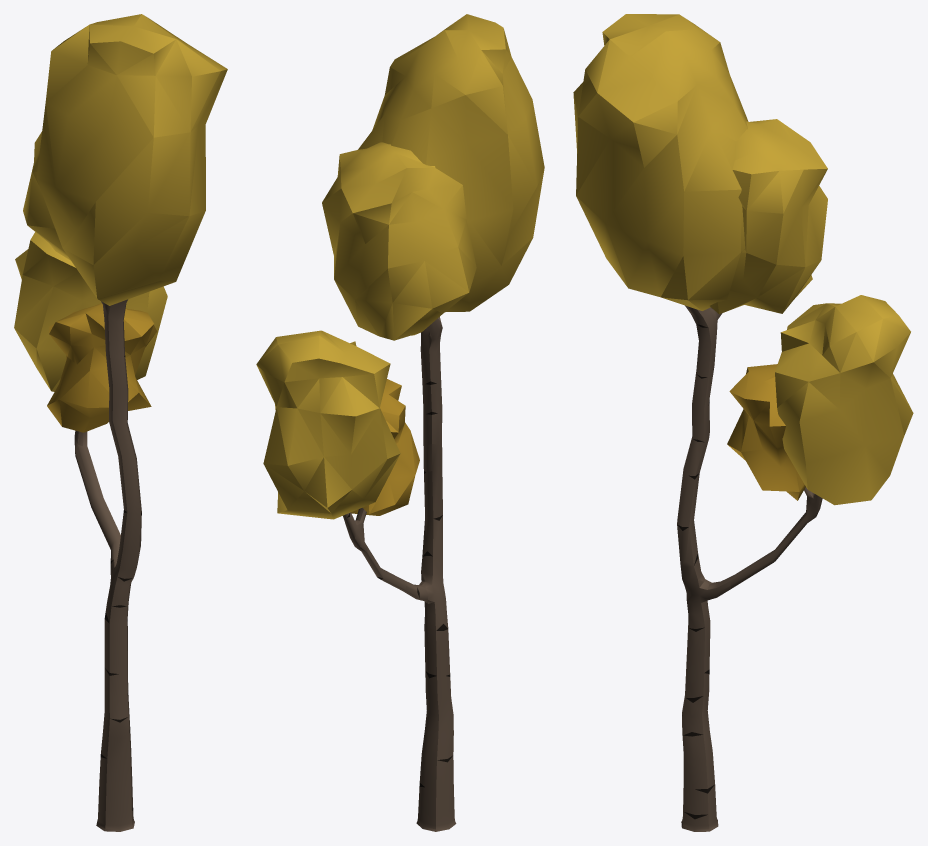
The model's file is tree_ginkgo_2.glb.
3 views of the same model, side by side, from view 1: azimuth 30°, elevation 25°; view 2: azimuth 150°, elevation 25°; view 3: azimuth 270°, elevation 25° (orthographic). The views are drawn at different scales.
Visible parts, largest first — view 1: tree_ginkgo_2; view 2: tree_ginkgo_2; view 3: tree_ginkgo_2.
Boxes of the visible parts, bbox=[...] form: tree_ginkgo_2: bbox=[14, 14, 227, 831]; tree_ginkgo_2: bbox=[256, 14, 544, 831]; tree_ginkgo_2: bbox=[573, 14, 913, 831].
Size of the model in its own units: 3.08 by 13 by 5.02.
